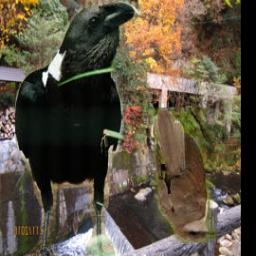Crow: (15, 1, 142, 256)
Cuckoo: (154, 107, 216, 243)
